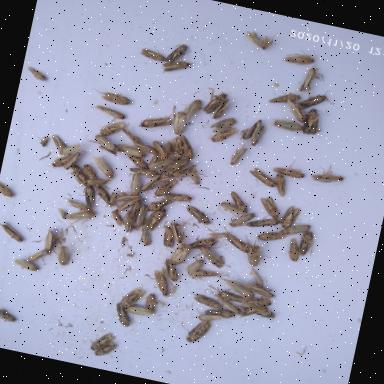pbw: (298, 84, 336, 116), (306, 160, 348, 188), (296, 105, 330, 139), (296, 62, 326, 99), (280, 45, 319, 70), (88, 86, 132, 108), (136, 110, 173, 136), (142, 266, 172, 298), (282, 91, 310, 124), (205, 290, 243, 314), (180, 316, 210, 346), (158, 54, 194, 78), (269, 114, 306, 137), (242, 28, 276, 52), (243, 212, 280, 234), (118, 284, 146, 312), (245, 166, 279, 189), (240, 236, 264, 268), (206, 112, 236, 137), (189, 234, 223, 256), (140, 204, 166, 232), (206, 124, 236, 148), (244, 120, 268, 150), (270, 160, 306, 180), (267, 88, 301, 109), (182, 206, 214, 228), (117, 121, 144, 147), (89, 156, 118, 180), (226, 208, 255, 232), (222, 232, 252, 255), (186, 291, 224, 309), (222, 279, 256, 299), (164, 40, 190, 66), (167, 104, 188, 136), (88, 330, 116, 354), (277, 203, 301, 231), (280, 219, 312, 240), (88, 103, 127, 120), (196, 246, 226, 268), (165, 220, 190, 246), (152, 175, 178, 200), (240, 282, 276, 300), (294, 229, 316, 258), (115, 142, 148, 161), (0, 218, 25, 243), (255, 194, 280, 219), (174, 135, 198, 161), (46, 150, 72, 174), (138, 170, 162, 196), (98, 117, 125, 140), (170, 161, 198, 183), (144, 194, 172, 216), (186, 266, 220, 284), (254, 227, 286, 246), (65, 164, 90, 188), (168, 241, 190, 268), (204, 304, 236, 322), (226, 190, 251, 213), (114, 194, 140, 216), (238, 301, 266, 321), (210, 94, 230, 122), (146, 154, 174, 174), (124, 170, 144, 198), (64, 206, 95, 224), (60, 148, 82, 173), (181, 96, 202, 122), (216, 200, 248, 217), (240, 292, 272, 309), (96, 140, 126, 158), (81, 172, 111, 190), (122, 151, 150, 170), (92, 185, 115, 208), (76, 162, 100, 184), (270, 172, 290, 198), (183, 166, 204, 190), (112, 303, 133, 327), (78, 185, 98, 210), (228, 143, 248, 168), (167, 136, 186, 162), (94, 340, 118, 360), (138, 46, 168, 62), (216, 288, 246, 304), (57, 139, 81, 159), (190, 310, 224, 324), (91, 133, 116, 152), (43, 228, 61, 254), (284, 238, 302, 264), (162, 190, 193, 205), (63, 198, 92, 214), (161, 259, 181, 282), (136, 224, 154, 249), (114, 190, 142, 206), (48, 134, 70, 154), (158, 224, 176, 248), (127, 165, 160, 178), (23, 65, 48, 82), (124, 304, 154, 318), (184, 256, 204, 276), (247, 267, 266, 288), (142, 292, 159, 314), (13, 258, 39, 272), (134, 203, 148, 229), (121, 210, 136, 234), (26, 246, 46, 264), (156, 164, 174, 184), (168, 155, 190, 171), (132, 140, 157, 154), (54, 245, 70, 266), (128, 197, 142, 220), (0, 305, 17, 323), (150, 140, 168, 156), (108, 211, 125, 227), (0, 181, 15, 198), (106, 190, 118, 209), (148, 152, 160, 169), (163, 138, 173, 156), (55, 208, 67, 219)
